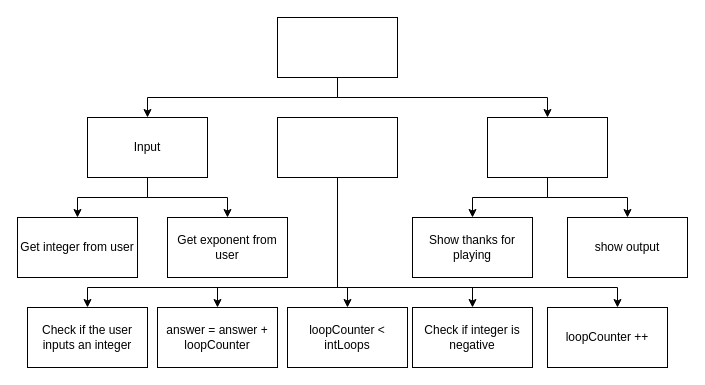
The diagram is 705 pixels wide and 385 high, and some of its shapes have lost their labels. Here are the shapes that lost their labels. From the top down, the centre of each, then its label:
point 337,47: Exponents program
point 337,147: Process
point 547,147: Output
